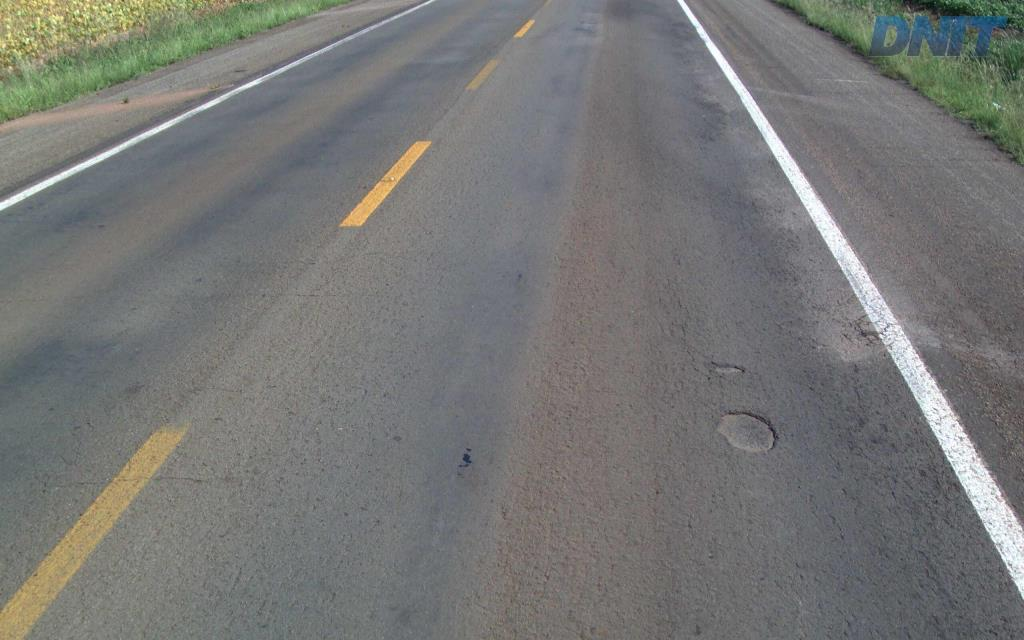pothole: (715, 406, 780, 455), (705, 357, 748, 378)
